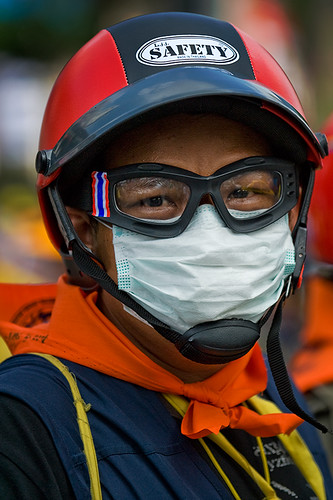helmet: (16, 5, 326, 153)
